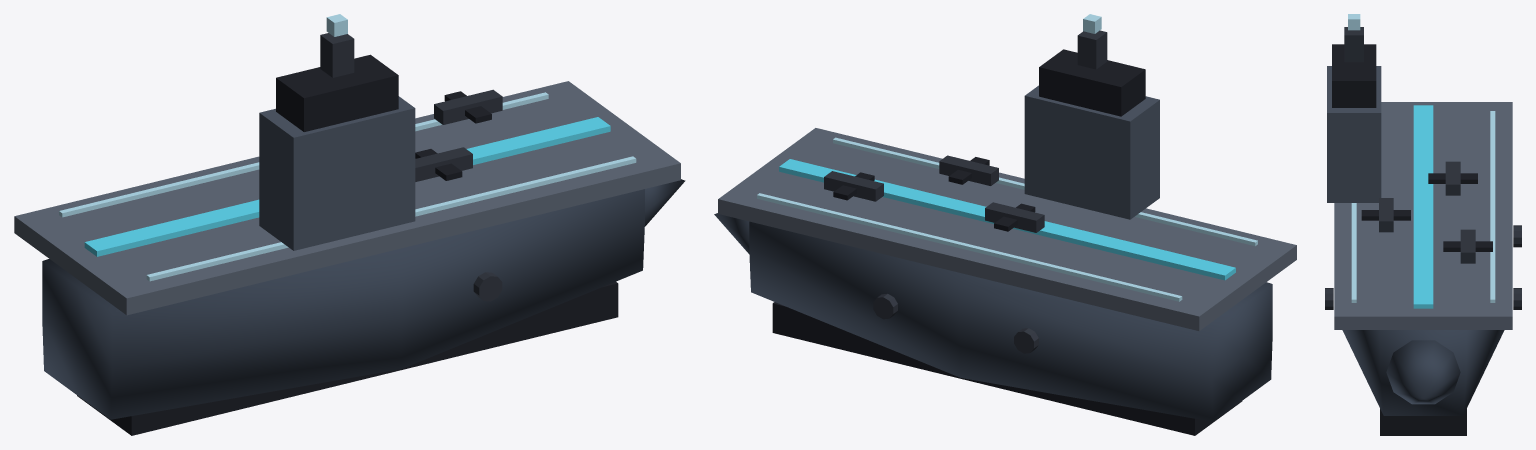
File: Phantom_Carrier.obj
3 views of the same model, side by side, from view 1: azimuth 30°, elevation 25°; view 2: azimuth 150°, elevation 25°; view 3: azimuth 270°, elevation 25° (orthographic). The views are drawn at different scales.
Visible parts, largest first — view 1: Phantom_Carrier; view 2: Phantom_Carrier; view 3: Phantom_Carrier.
Part boxes in pixels (x1,y1,x2,y2): Phantom_Carrier: (14,14,685,435); Phantom_Carrier: (714,14,1296,435); Phantom_Carrier: (1325,14,1521,435).
Size of the model in its own units: 2.28 by 1.36 by 0.795.
